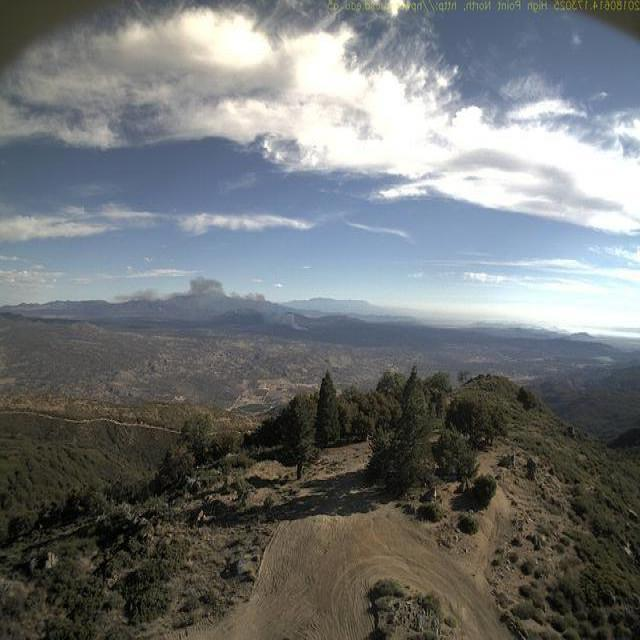Smoke: (133, 272, 320, 335)
